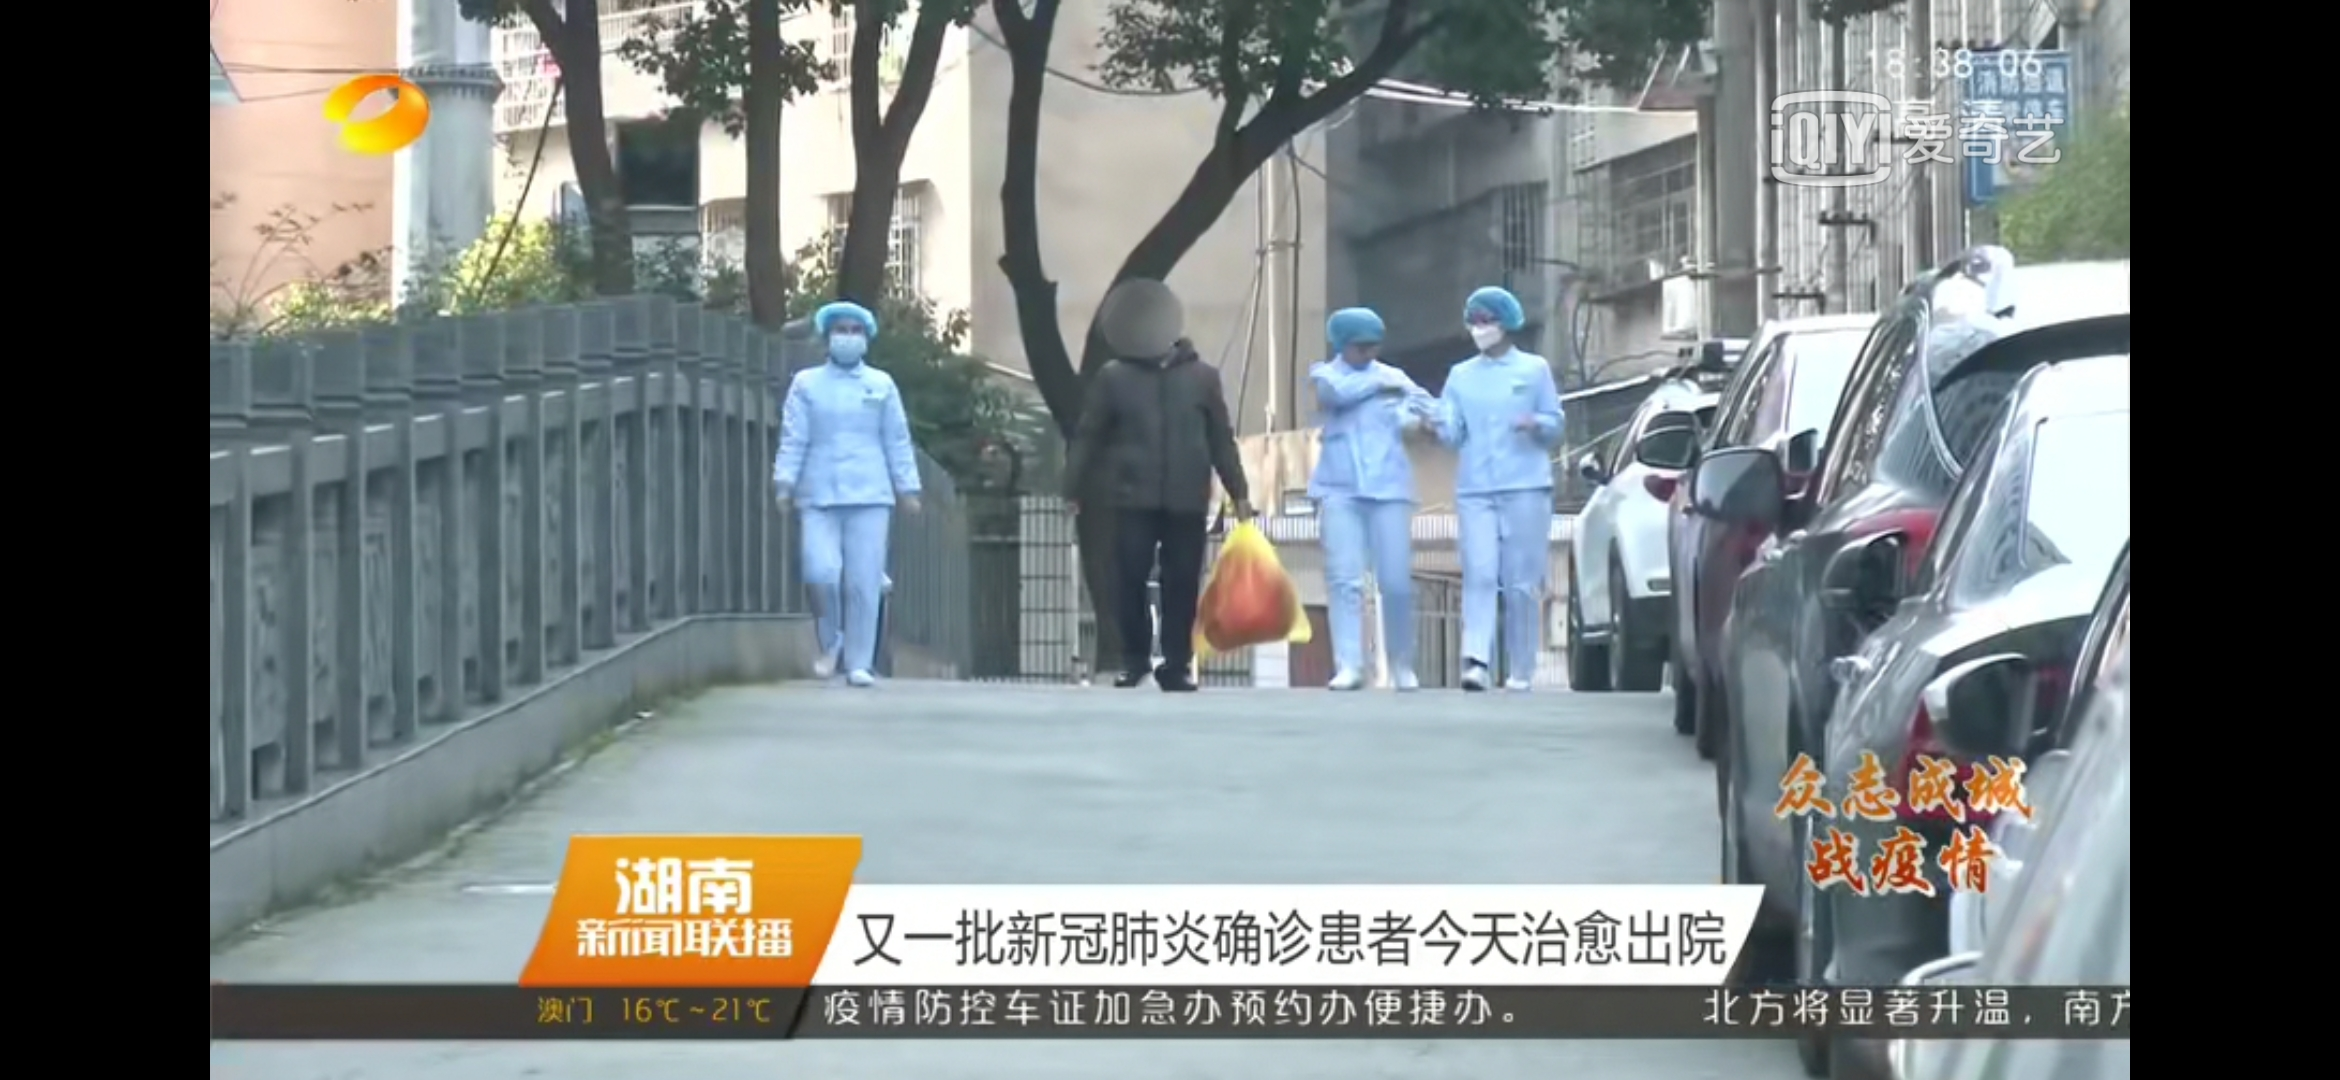correctlyWear: (819, 322, 872, 371), (1467, 312, 1513, 360)
noWear: (1343, 333, 1380, 370)
